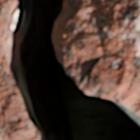broken_brick: (56, 0, 139, 117), (0, 0, 43, 139)
crack: (1, 0, 139, 139)
